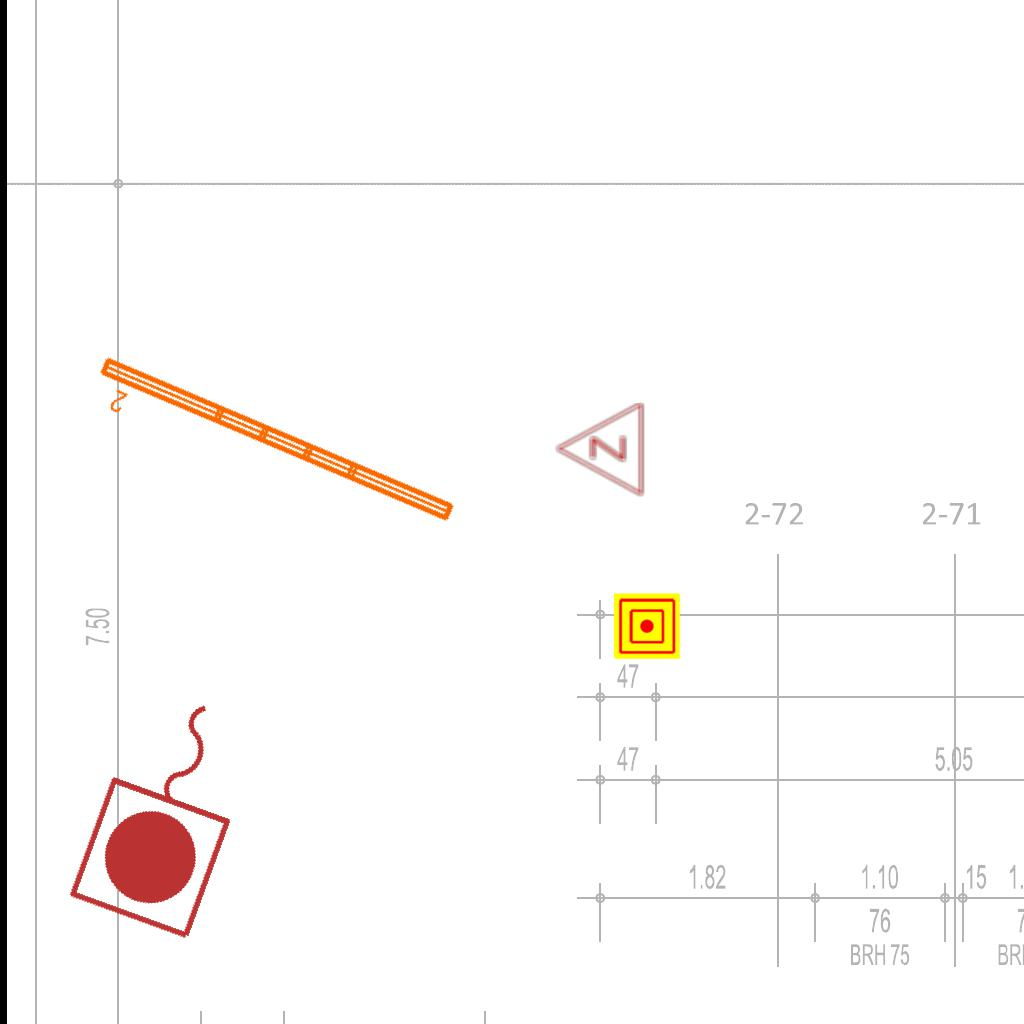Ambulanz_Pendelleuchte_LED: (83, 349, 462, 553)
NAM-Nichtautomatischer_Melder: (614, 593, 680, 659)
Zimmersignalleuchte: (550, 401, 650, 499)
Zugtaster: (59, 671, 279, 951)
